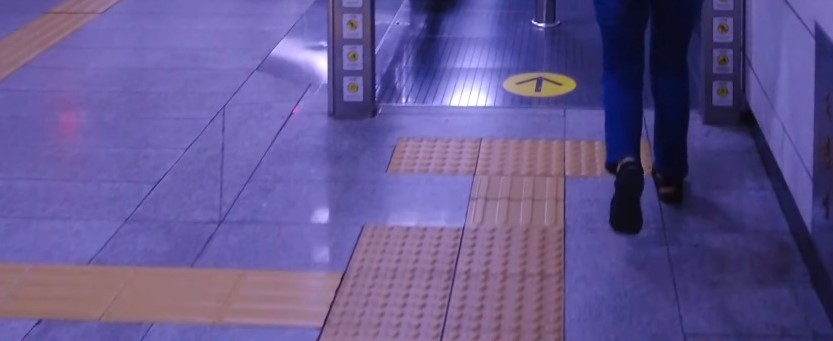guideBlock: (119, 267, 228, 319), (237, 276, 327, 330)
warningBlock: (341, 279, 455, 341), (452, 280, 565, 341), (455, 223, 569, 280), (354, 225, 471, 278), (490, 130, 570, 179), (392, 142, 477, 179), (565, 136, 645, 174)
